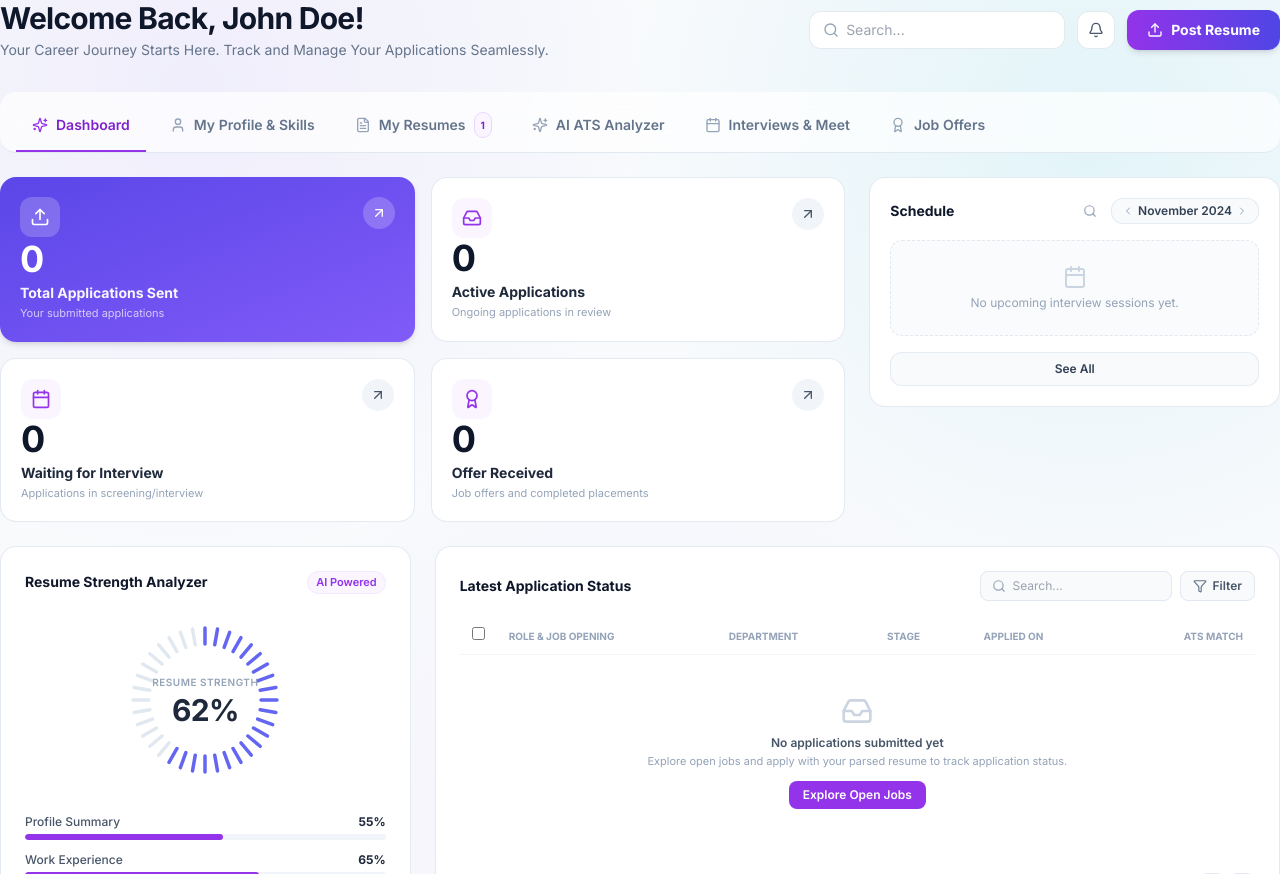
Test case: Candidate ATS Pre-Check, Coaching Panel, and Application Snapshot Workflow › opens Pre-Application Confirmation Modal and submits application with immutable snapshot
The width and height of the screenshot is (1280, 874).
Note: Switch to ATS tab
Click the button "AI ATS Analyzer".
click(598, 126)  # box [516,100,681,152]
(page scrolled)
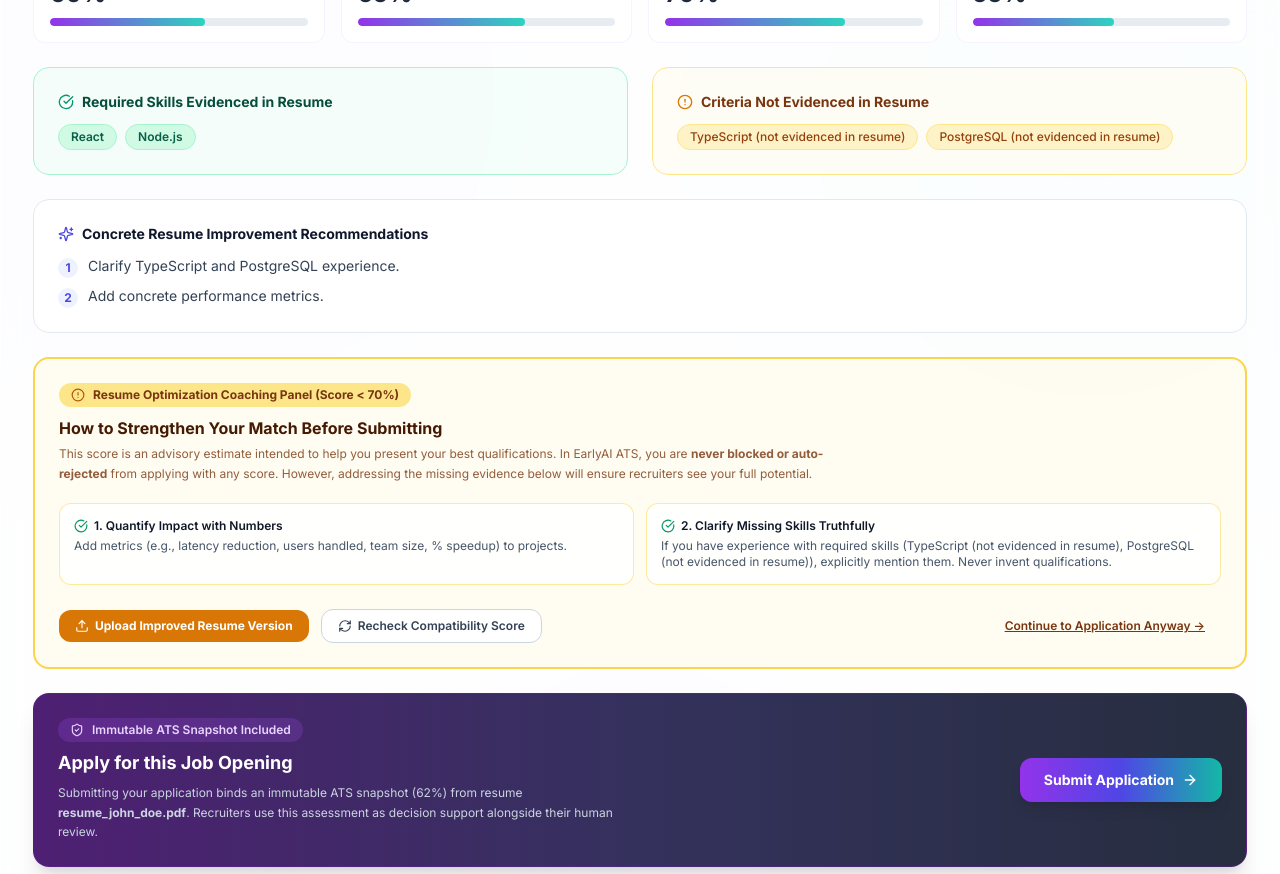
Note: Click "Submit Application" button
Click the button "Submit Application".
click(1121, 780)  # box [1020,758,1222,802]
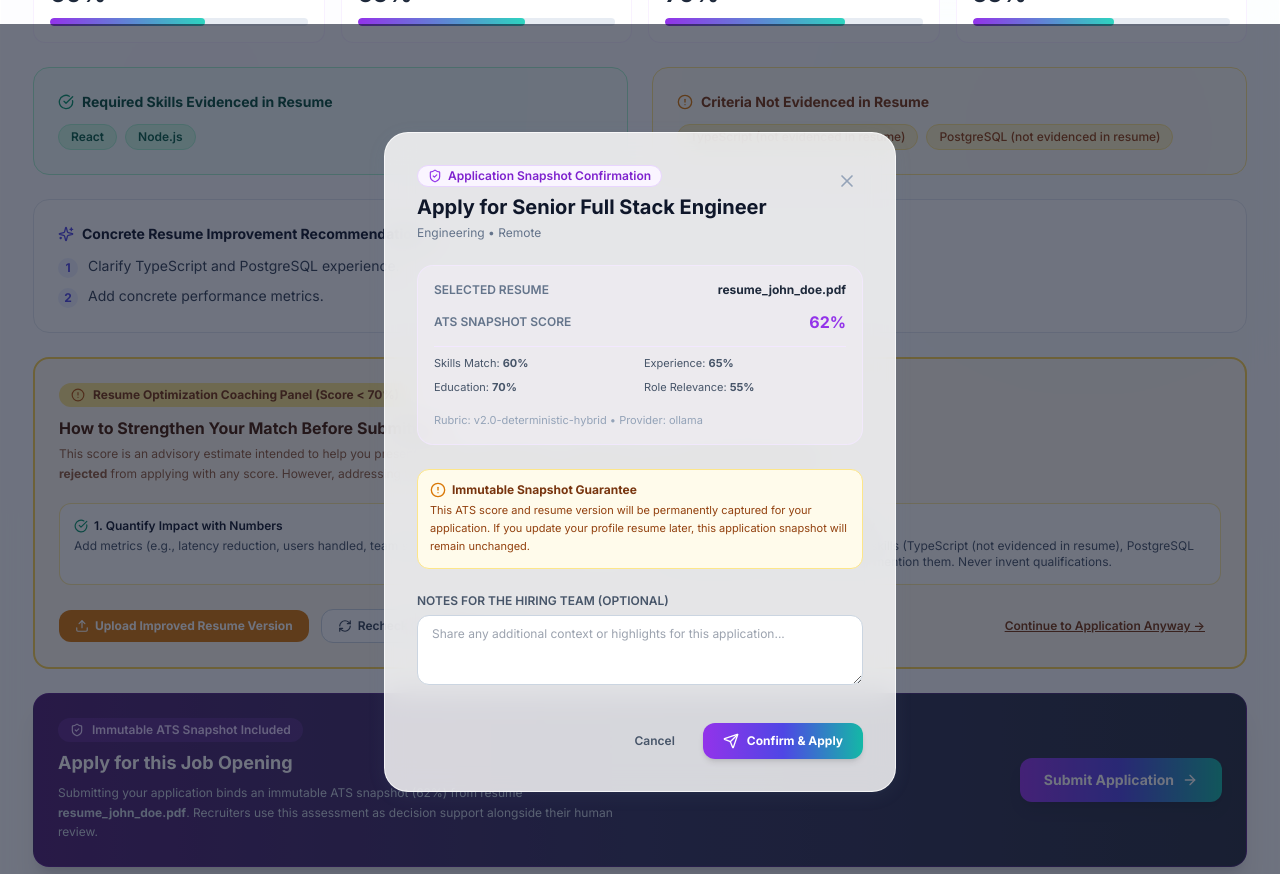
Check: the text "Application Snapshot Confirmation" is shown, box [417,165,662,187]
Check: the text "Immutable Snapshot Guarantee" is shown, box [430,482,637,498]
Note: Confirm & Apply
Click the button "Confirm & Apply".
click(783, 741)  # box [703,723,863,759]
(page scrolled)
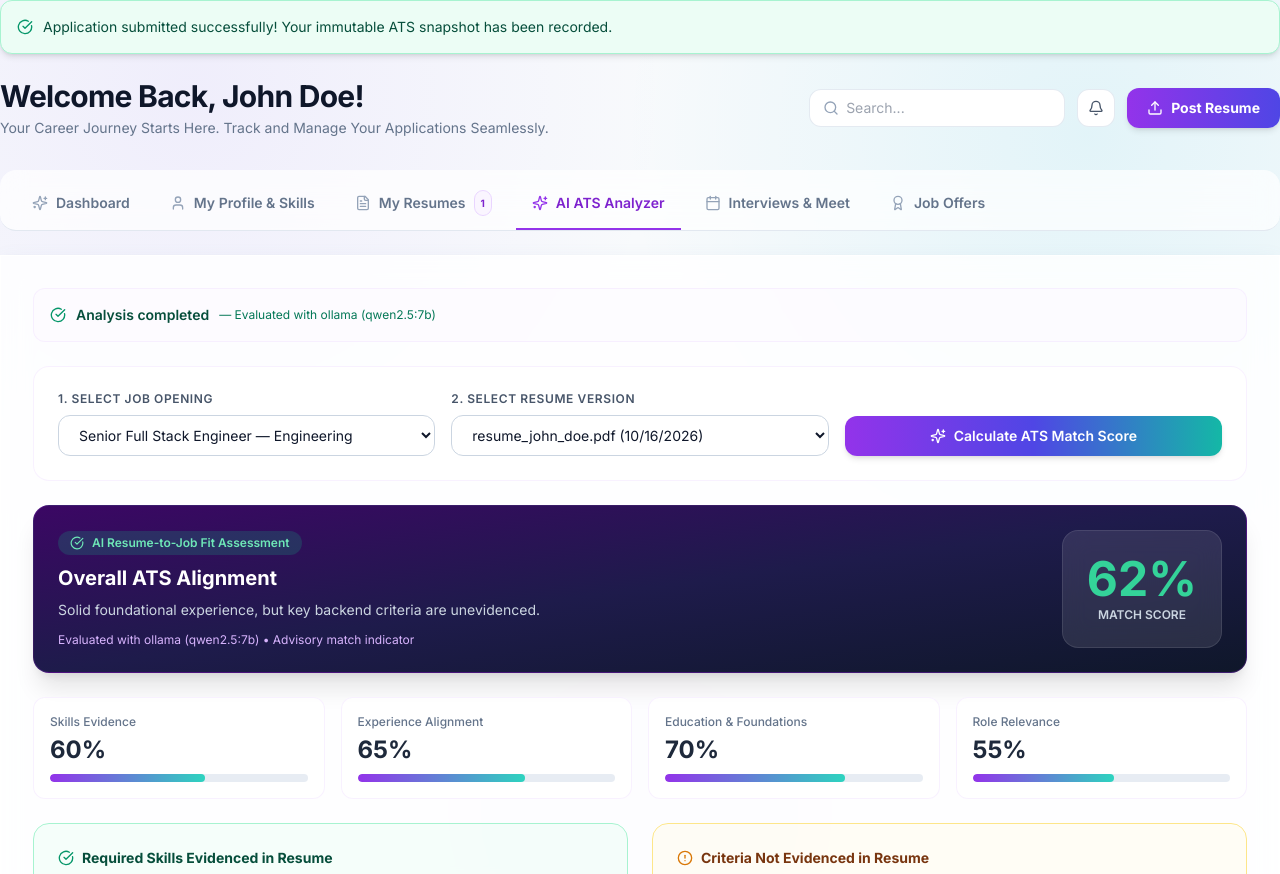
Check: the text "Application submitted successfully! Your immutable ATS snapshot has been recorded" is shown, box [43,18,612,35]
